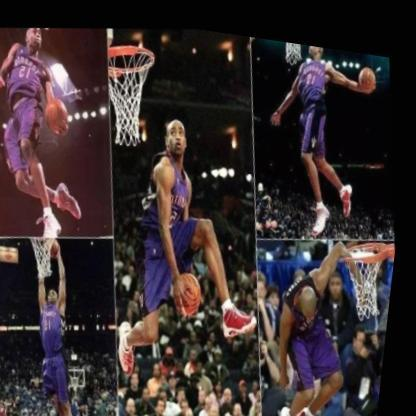basketball: (42, 94, 73, 134), (356, 54, 377, 83)
rim: (99, 35, 169, 147), (343, 221, 400, 311)
